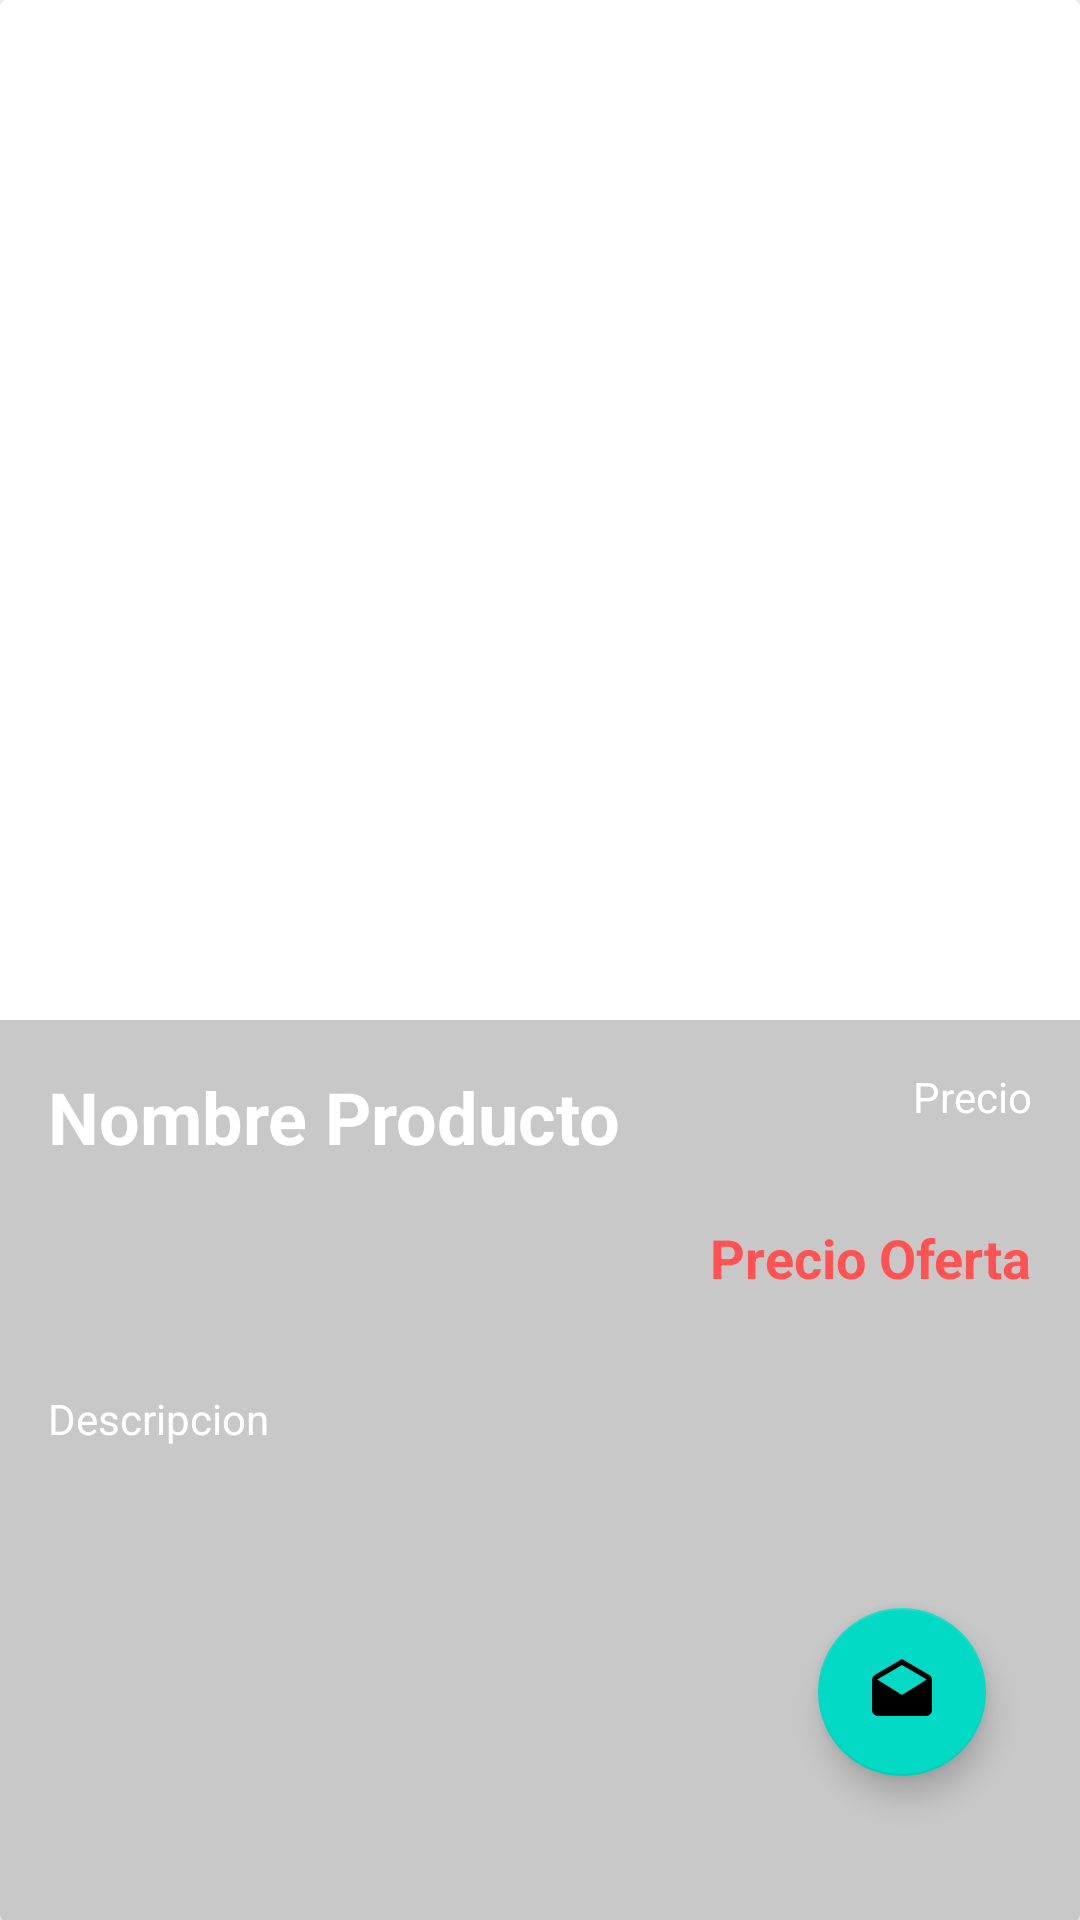

Where to tap for icons on this 1080 × 1920 app screen, as (x,y):
Boton flotante: (902,1692)
